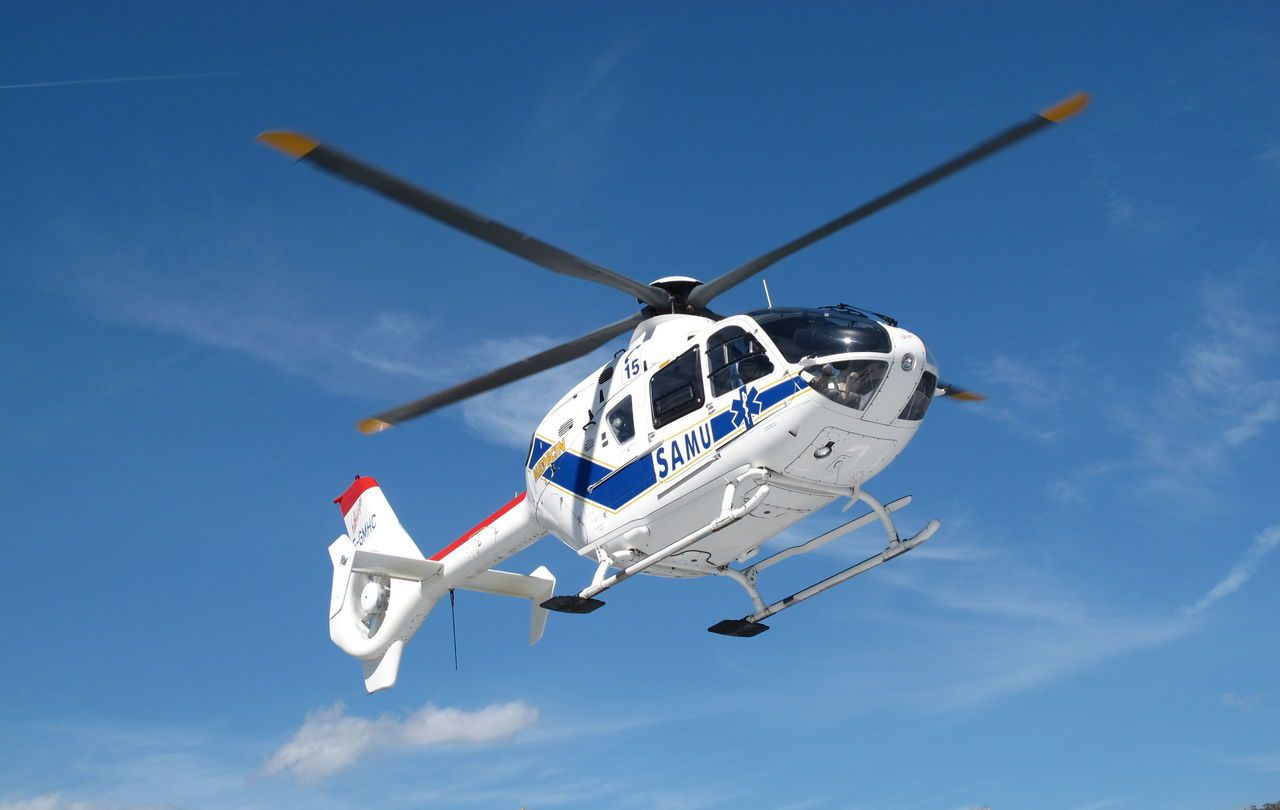Aeronef_de_service: (221, 72, 1105, 708)
